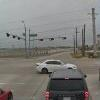Car: (28, 46, 80, 75)
